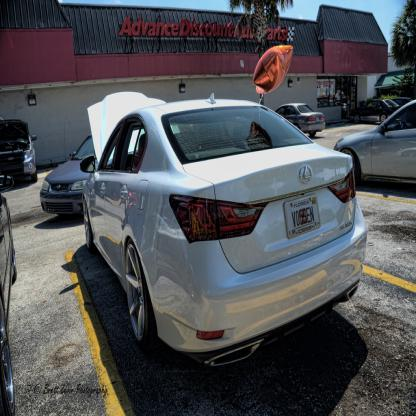Car: (60, 90, 354, 365), (334, 98, 415, 189), (0, 185, 18, 415), (42, 135, 92, 217), (0, 115, 39, 178), (275, 103, 326, 135), (353, 98, 400, 124)
